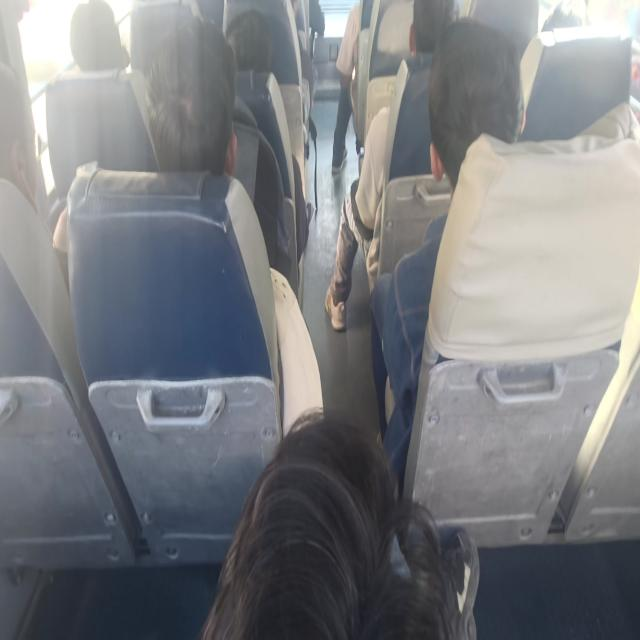person: (211, 435, 472, 640), (429, 46, 536, 198), (152, 61, 238, 185), (0, 71, 44, 196), (63, 6, 126, 83), (222, 11, 286, 83), (532, 0, 598, 54), (402, 0, 457, 60)
